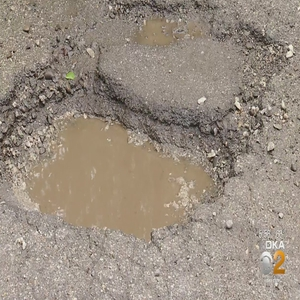pothole: (6, 88, 239, 245)
